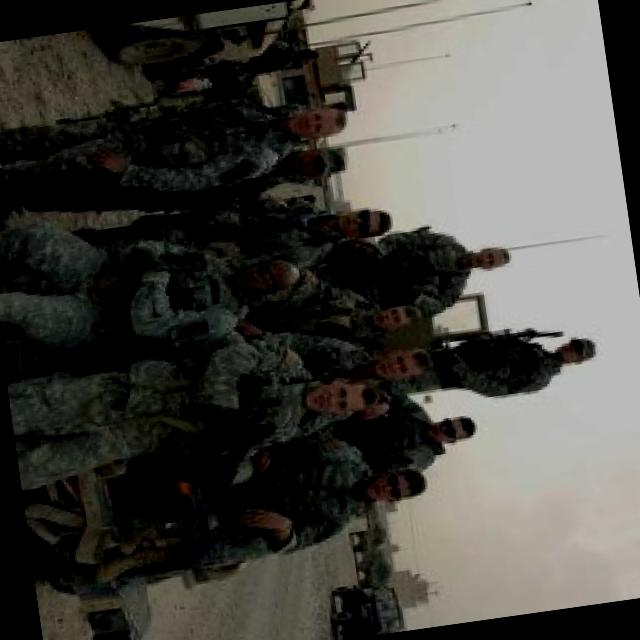long weapon: (144, 369, 280, 584)
